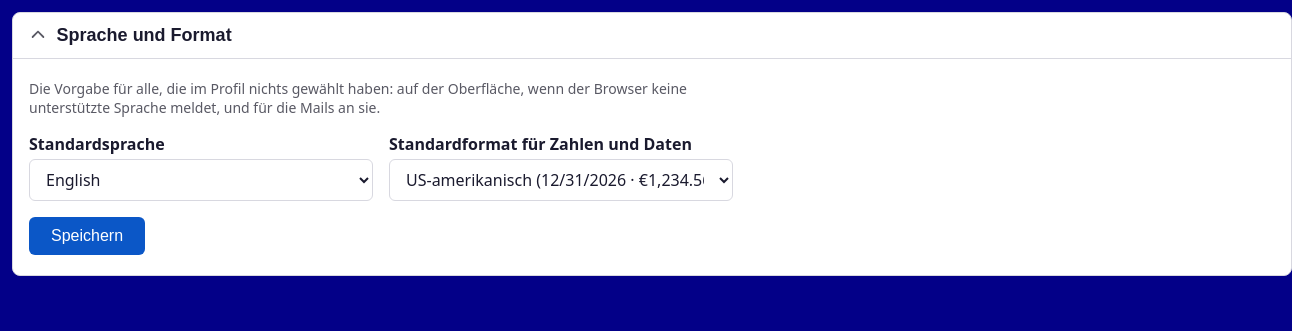
it: GeneralSection › shows the stored defaults and saves both, an empty format as null
Check: the dropdown labelled "Standardsprache" shows "English", box [29,159,373,201]
Select "Nach der Sprache" in the dropdown labelled "Standardformat für Zahlen und Daten". click: (561, 180)
box: [389,159,733,201]
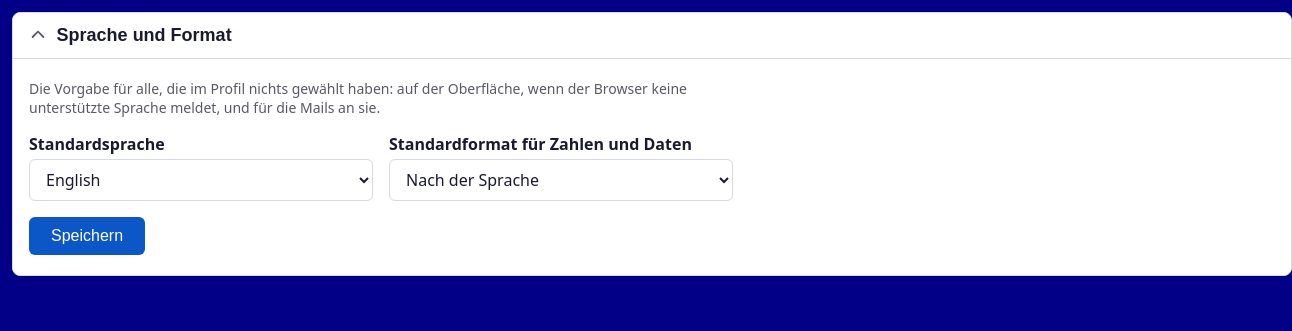
Submit the form, box [29,79,733,255]
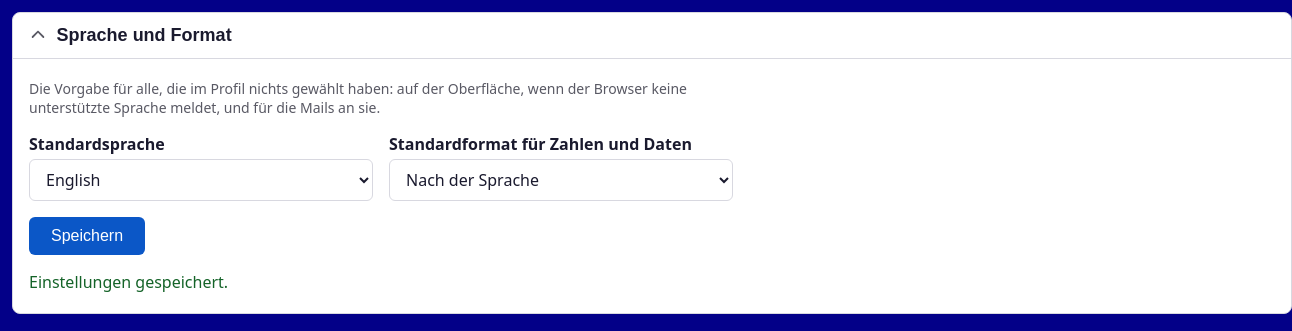
Check: the text "Einstellungen gespeichert." is shown, box [29,271,228,293]
